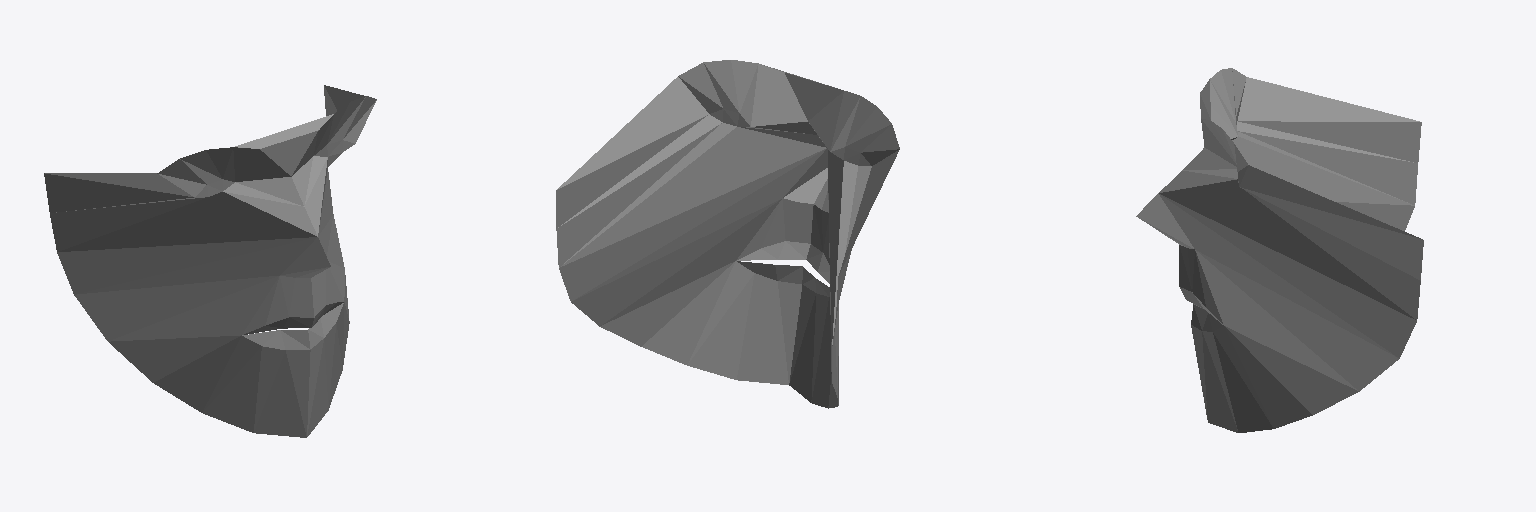
Rendered from GameObject_0_0.obj.
3 renders of one model, left to right at view 1: azimuth 30°, elevation 25°; view 2: azimuth 150°, elevation 25°; view 3: azimuth 270°, elevation 25°, orthographic.
Visible parts, largest first — view 1: GameObject; view 2: GameObject; view 3: GameObject.
Part boxes in pixels (left/top/right/bottom): GameObject: left=44, top=85, right=376, bottom=437; GameObject: left=556, top=60, right=899, bottom=408; GameObject: left=1136, top=68, right=1423, bottom=432.
Bounding box in the file's own units: 39.43 × 42.53 × 34.85.